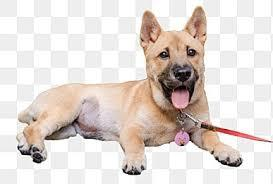non-mango: (16, 5, 243, 175)
